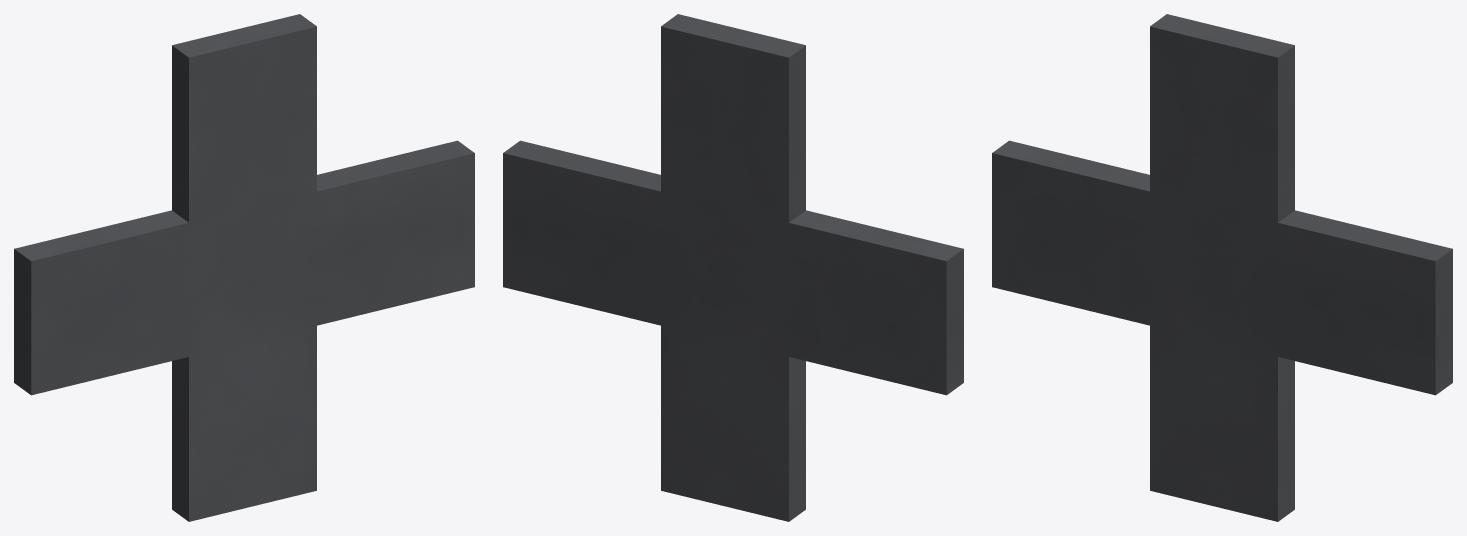
File: redmark_cross.gltf
3 views of the same model, side by side, from view 1: azimuth 30°, elevation 25°; view 2: azimuth 150°, elevation 25°; view 3: azimuth 330°, elevation 25° (orthographic).
Parts seen in each view (by area): view 1: jx_redmark_cross; view 2: jx_redmark_cross; view 3: jx_redmark_cross.
Boxes of the visible parts, box(x1,y1,x2,y2) form: jx_redmark_cross: box(14, 14, 474, 521); jx_redmark_cross: box(503, 14, 963, 521); jx_redmark_cross: box(992, 14, 1452, 521).
Bounding box in the file's own units: 0.9 × 0.9 × 0.06.
Materials: 1 (1 with a texture image).
